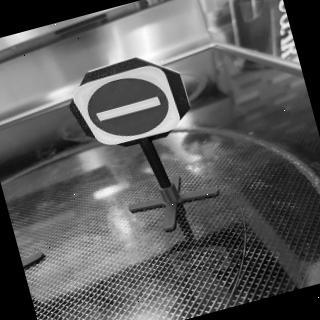sign_noentry: (66, 54, 197, 159)
